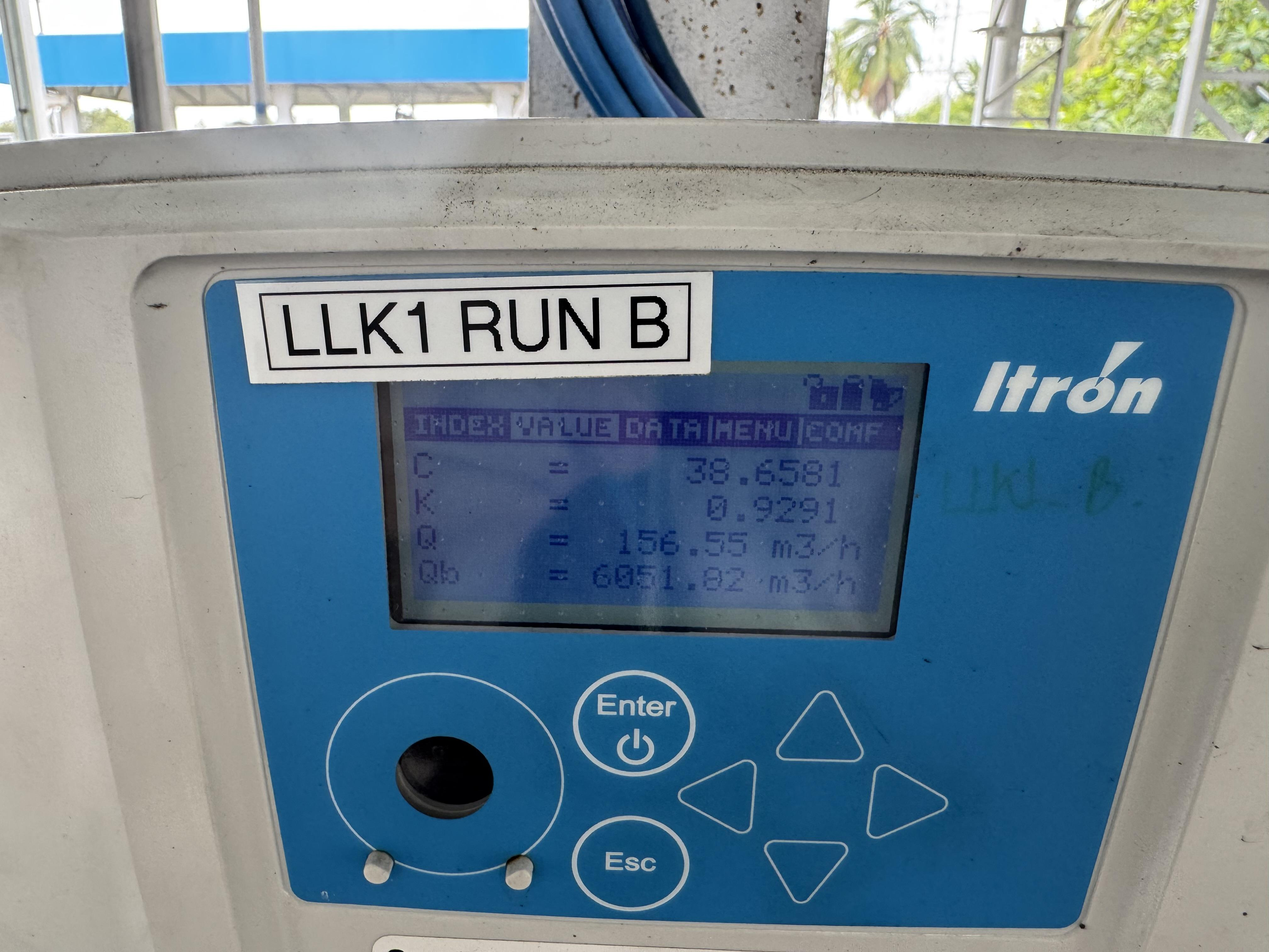digital_screen: (370, 354, 930, 639)
